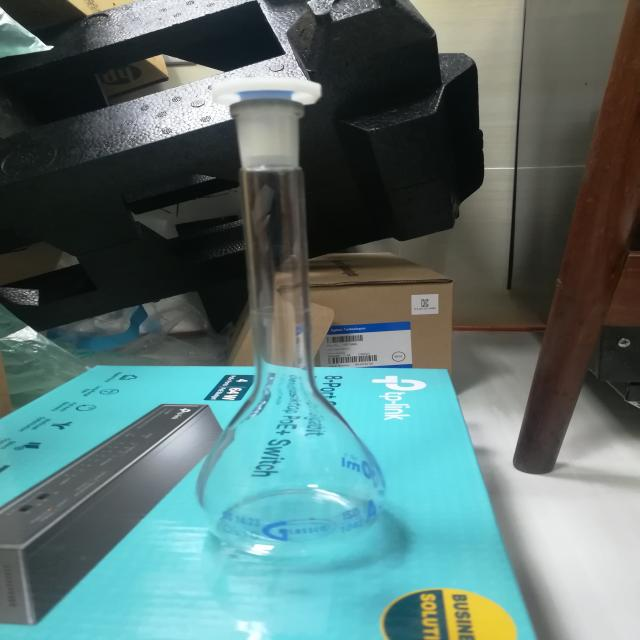Volumetric_Flask: (160, 50, 423, 563)
